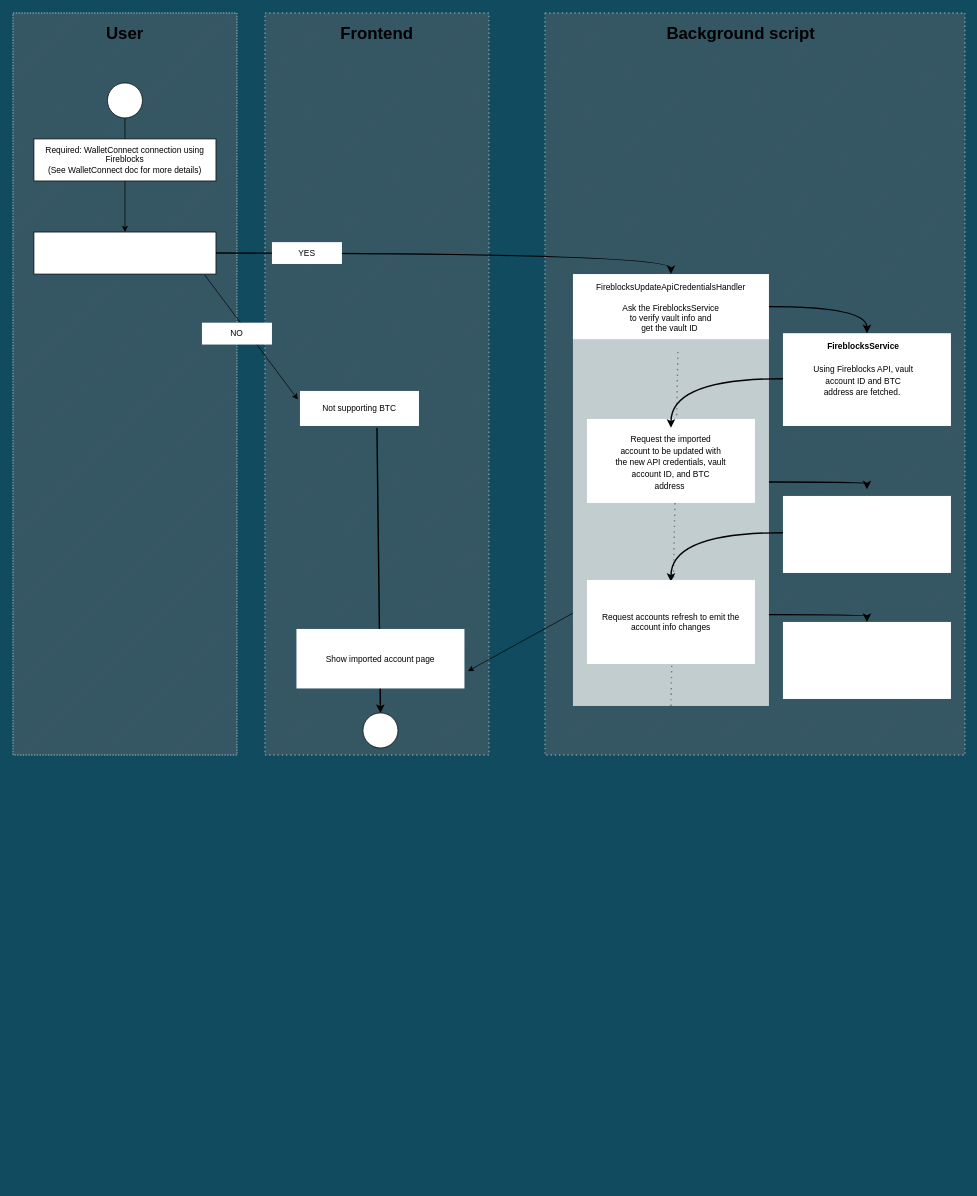
This 977x1196 diagram has some shape labels left out. The shapes that lost their labels are listed below. From the top down, each one's box as (x1, y1, x2, y2) in pixels, then its label:
(107, 82, 142, 118): Start
(33, 231, 216, 274): Optional: Provides the API credentials
(783, 496, 951, 573): SecretService saveImportedWallet
(783, 622, 951, 699): AccountsService refreshAddressesForAccount
(362, 712, 398, 748): End
